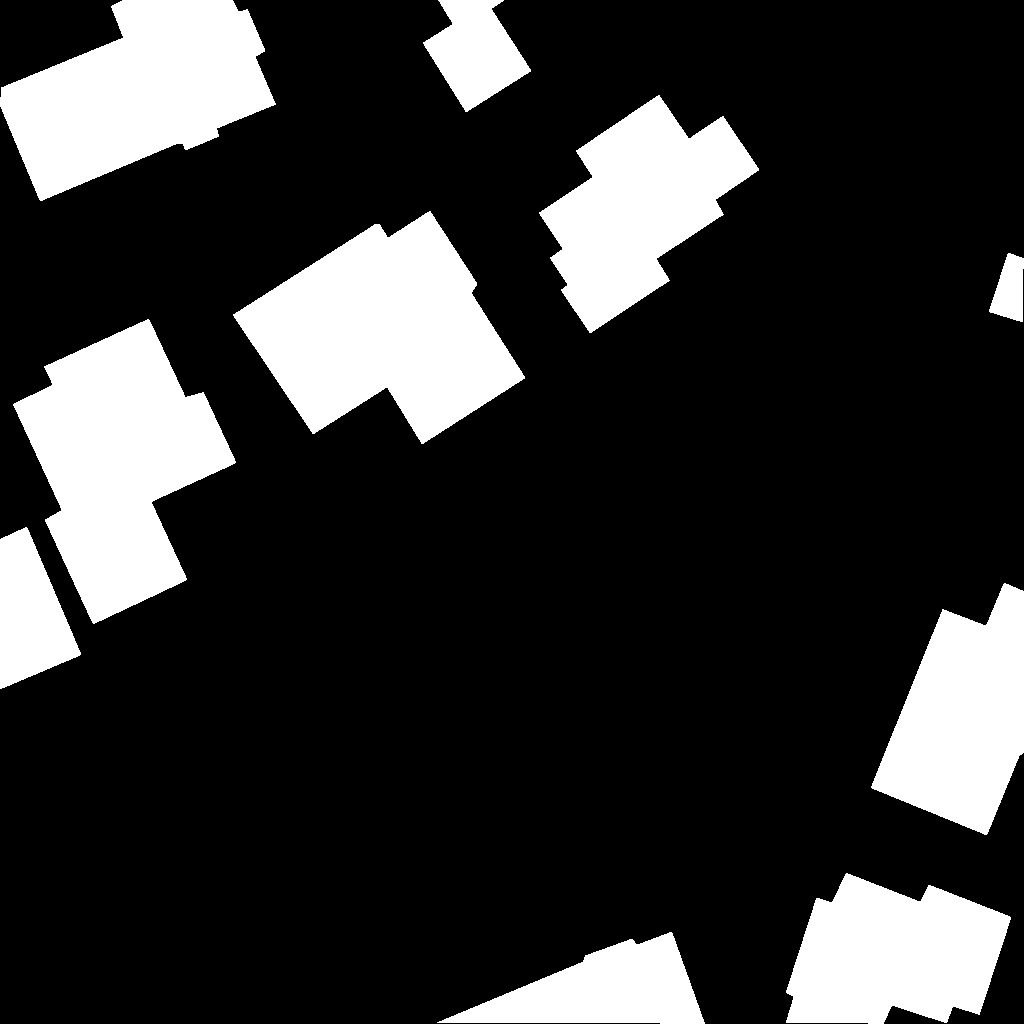building: (233, 211, 526, 445), (13, 319, 237, 625), (0, 0, 277, 202), (539, 95, 760, 334), (871, 583, 1024, 836), (786, 873, 1012, 1024), (436, 932, 706, 1024), (0, 527, 82, 690), (423, 0, 532, 113), (989, 253, 1024, 323)
